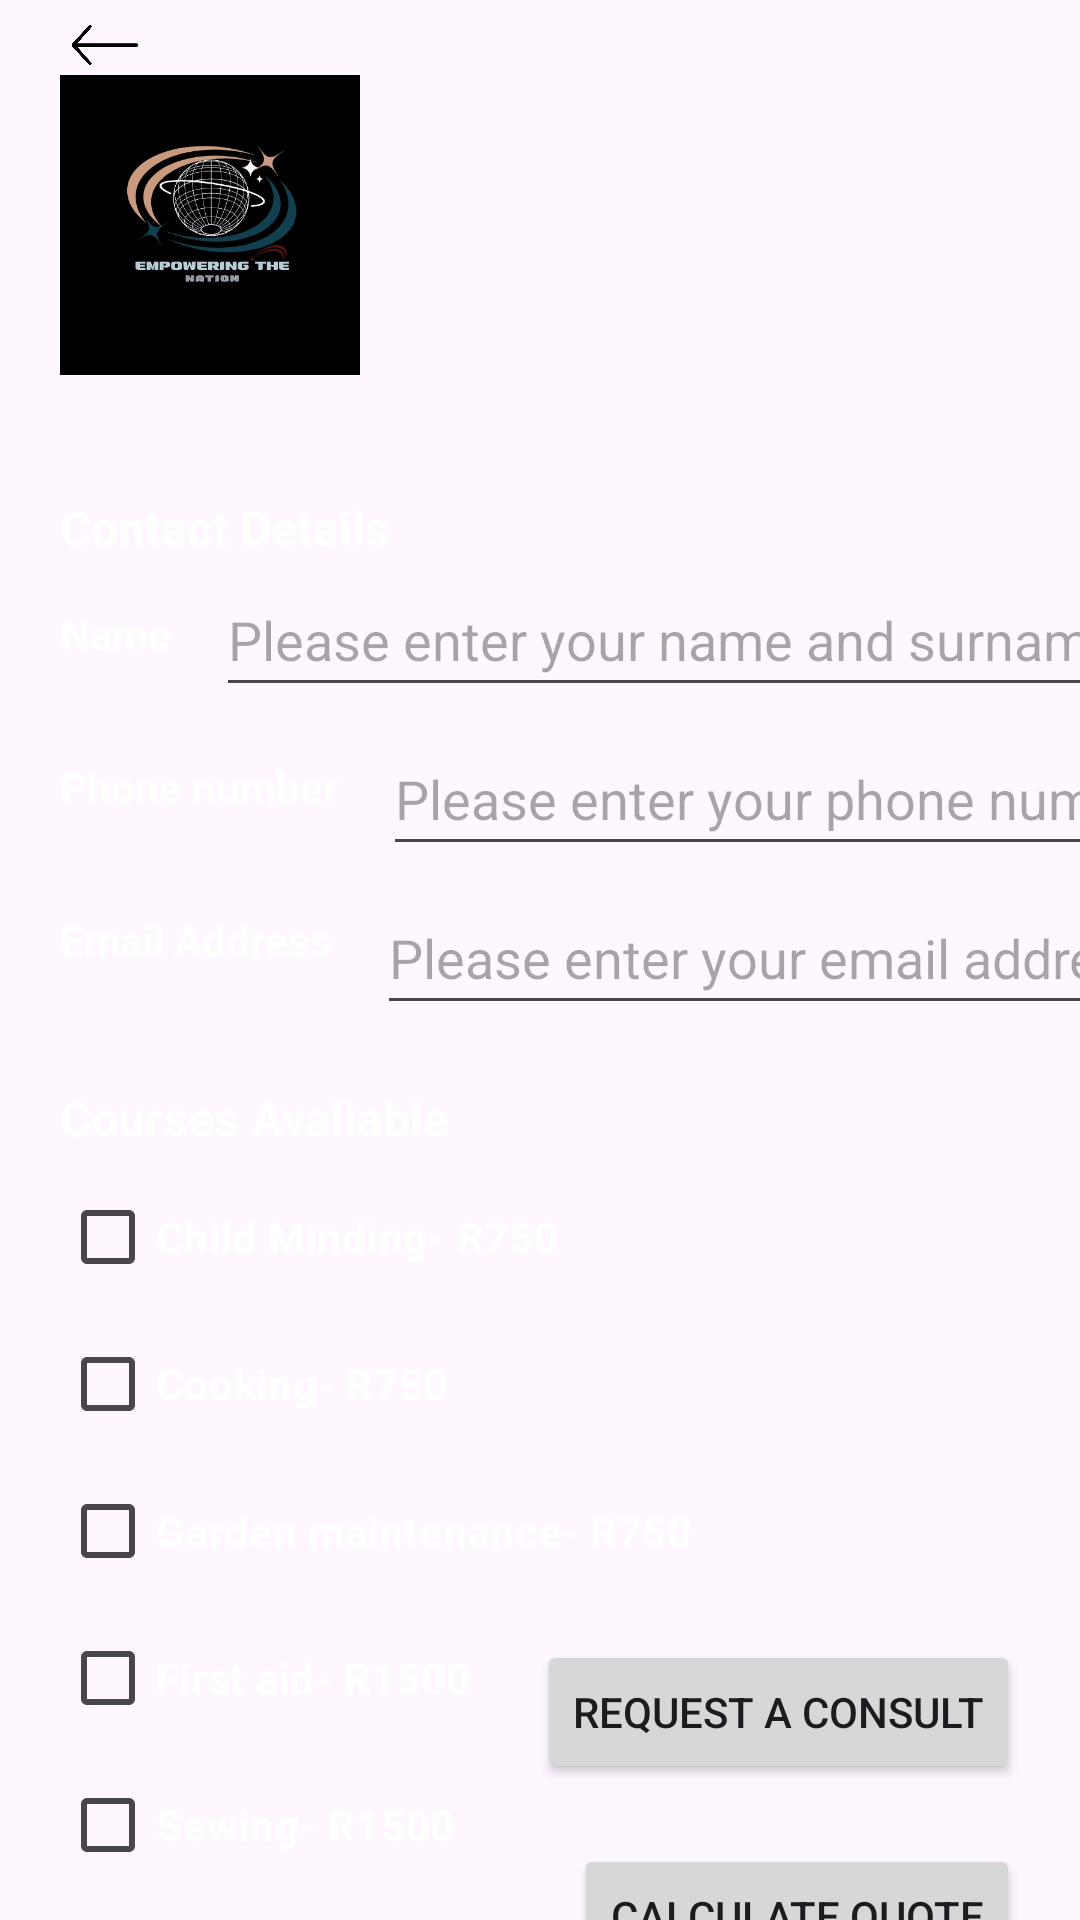

Where icons sit on this 1080w x 1920h app screen, as {"left": x1, "top": y1, "right": x2, "bottom": y2}:
back: {"left": 72, "top": 25, "right": 138, "bottom": 65}
